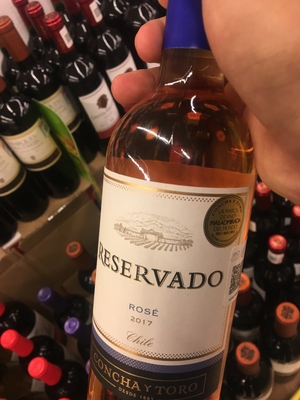reservado rose: (90, 3, 262, 400)
